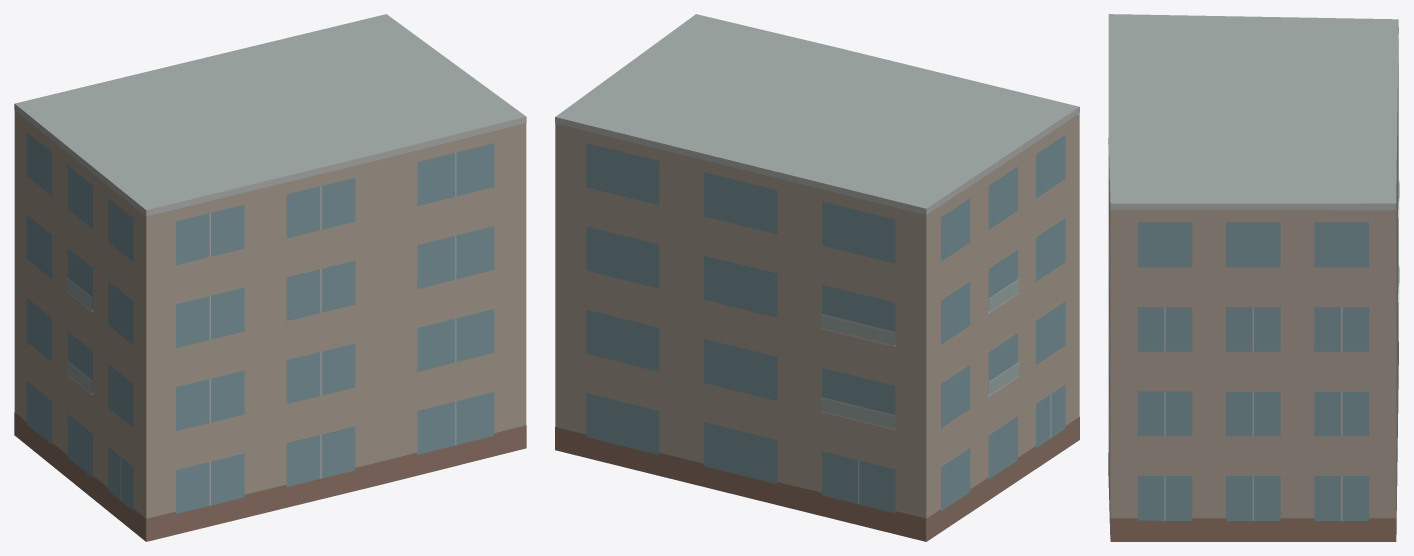
File: survey-upis-32644606.glb
3 views of the same model, side by side, from view 1: azimuth 30°, elevation 25°; view 2: azimuth 150°, elevation 25°; view 3: azimuth 270°, elevation 25° (orthographic).
Parts seen in each view (by area): view 1: survey-upis-32644606.tmp; view 2: survey-upis-32644606.tmp; view 3: survey-upis-32644606.tmp.
Part boxes in pixels (x1=…): survey-upis-32644606.tmp: x1=14, y1=14, x2=526, y2=541; survey-upis-32644606.tmp: x1=555, y1=14, x2=1079, y2=541; survey-upis-32644606.tmp: x1=1108, y1=14, x2=1399, y2=541.
Bounding box in the file's own units: 15.41 × 12.8 × 10.
